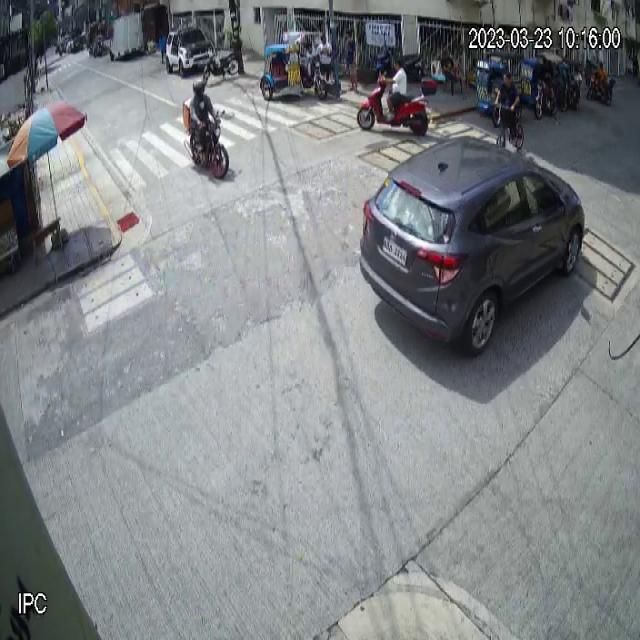Car: (358, 134, 588, 362)
Motorcycle: (355, 69, 439, 139)
Tricycle: (260, 31, 328, 102)
